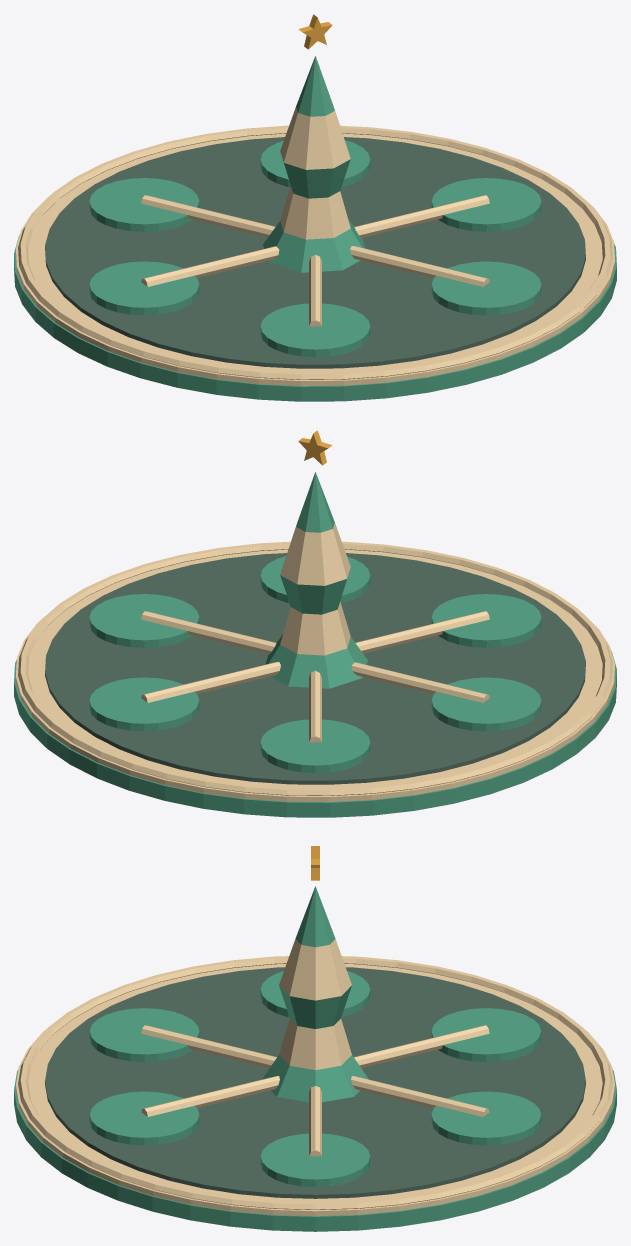
File: ParkParkIceHub.obj
The picture shows the model from 3 angles, top to bottom: view 1: azimuth 30°, elevation 25°; view 2: azimuth 150°, elevation 25°; view 3: azimuth 270°, elevation 25°; orthographic projection.
Visible parts, largest first — view 1: ParkParkIceHub; view 2: ParkParkIceHub; view 3: ParkParkIceHub.
Boxes of the visible parts, <box> form: ParkParkIceHub: <box>14,14,616,401</box>; ParkParkIceHub: <box>14,430,616,817</box>; ParkParkIceHub: <box>14,846,616,1231</box>.
Bounding box in the file's own units: 16.5 × 7.8 × 16.5.
